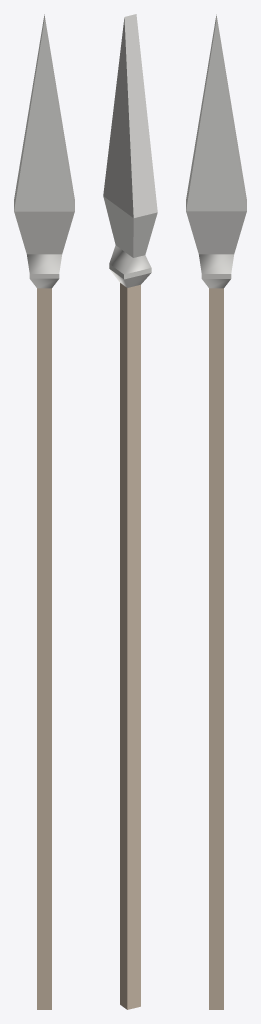
The model's file is spear.fbx.
3 renders of one model, left to right at view 1: azimuth 90°, elevation 25°; view 2: azimuth 210°, elevation 25°; view 3: azimuth 270°, elevation 25°, orthographic.
Parts seen in each view (by area): view 1: spear; view 2: spear; view 3: spear.
Boxes of the visible parts, bbox=[...] form: spear: bbox=[14, 14, 74, 1009]; spear: bbox=[103, 14, 157, 1009]; spear: bbox=[186, 14, 246, 1009].
Bounding box in the file's own units: 14.35 × 492 × 27.45.
